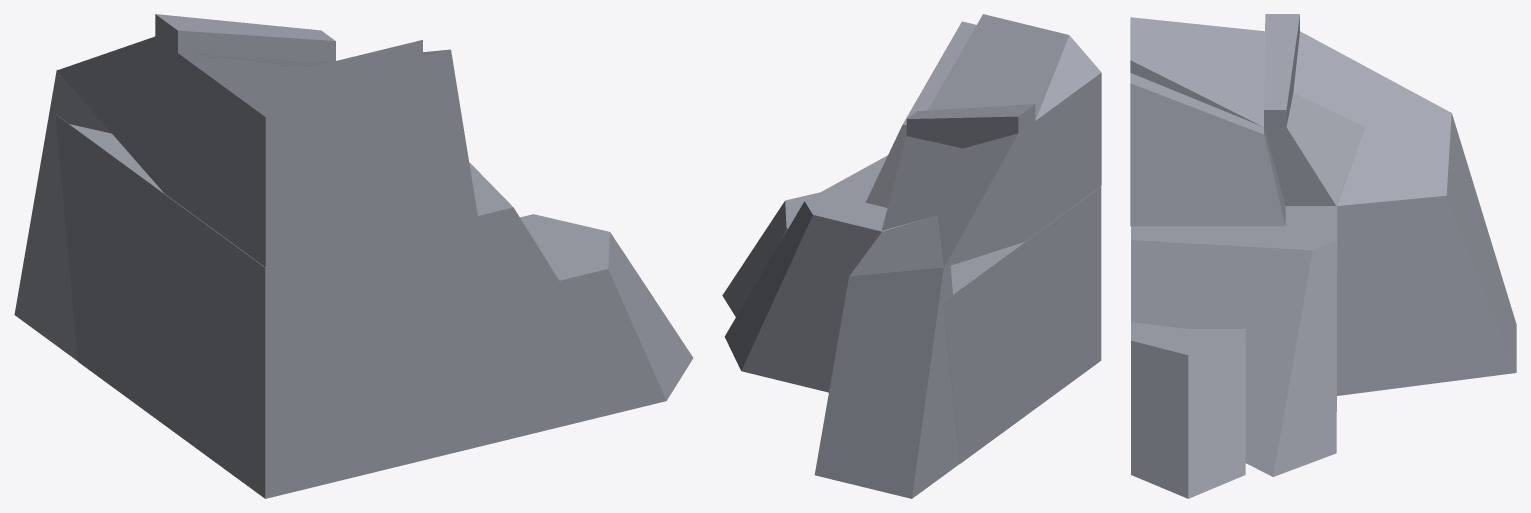
The model's file is Roca_Tipo2 1.fbx.
The picture shows the model from 3 angles, left to right: view 1: azimuth 30°, elevation 25°; view 2: azimuth 150°, elevation 25°; view 3: azimuth 270°, elevation 25°; orthographic projection. The views are drawn at different scales.
Parts seen in each view (by area): view 1: Cubo.004, Cubo.013, Cubo.009; view 2: Cubo.004, Cubo.013, Cubo.009; view 3: Cubo.004, Cubo.013, Cubo.009.
Boxes of the visible parts, x1,y1,x2,y2 form: Cubo.004: (55,114,693,498); Cubo.013: (57,14,477,267); Cubo.009: (14,70,111,360); Cubo.004: (722,155,1101,463); Cubo.013: (865,14,1101,267); Cubo.009: (814,215,959,498); Cubo.004: (1131,159,1353,498); Cubo.013: (1130,14,1450,226); Cubo.009: (1337,112,1516,395).
Bounding box in the file's own units: 74.83 × 64.68 × 70.01.
3 materials, 3 textured.
